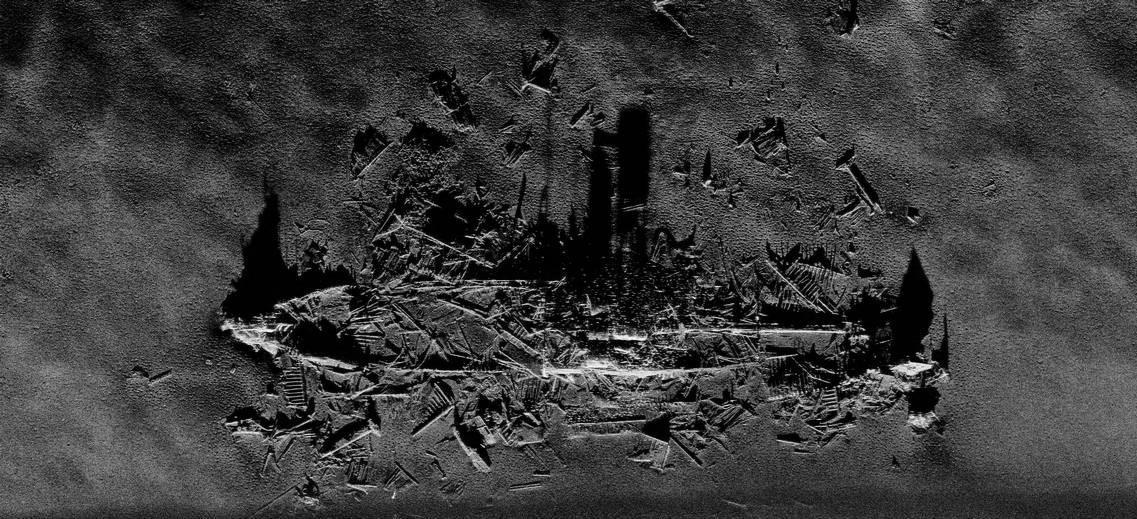ship: (217, 193, 951, 472)
